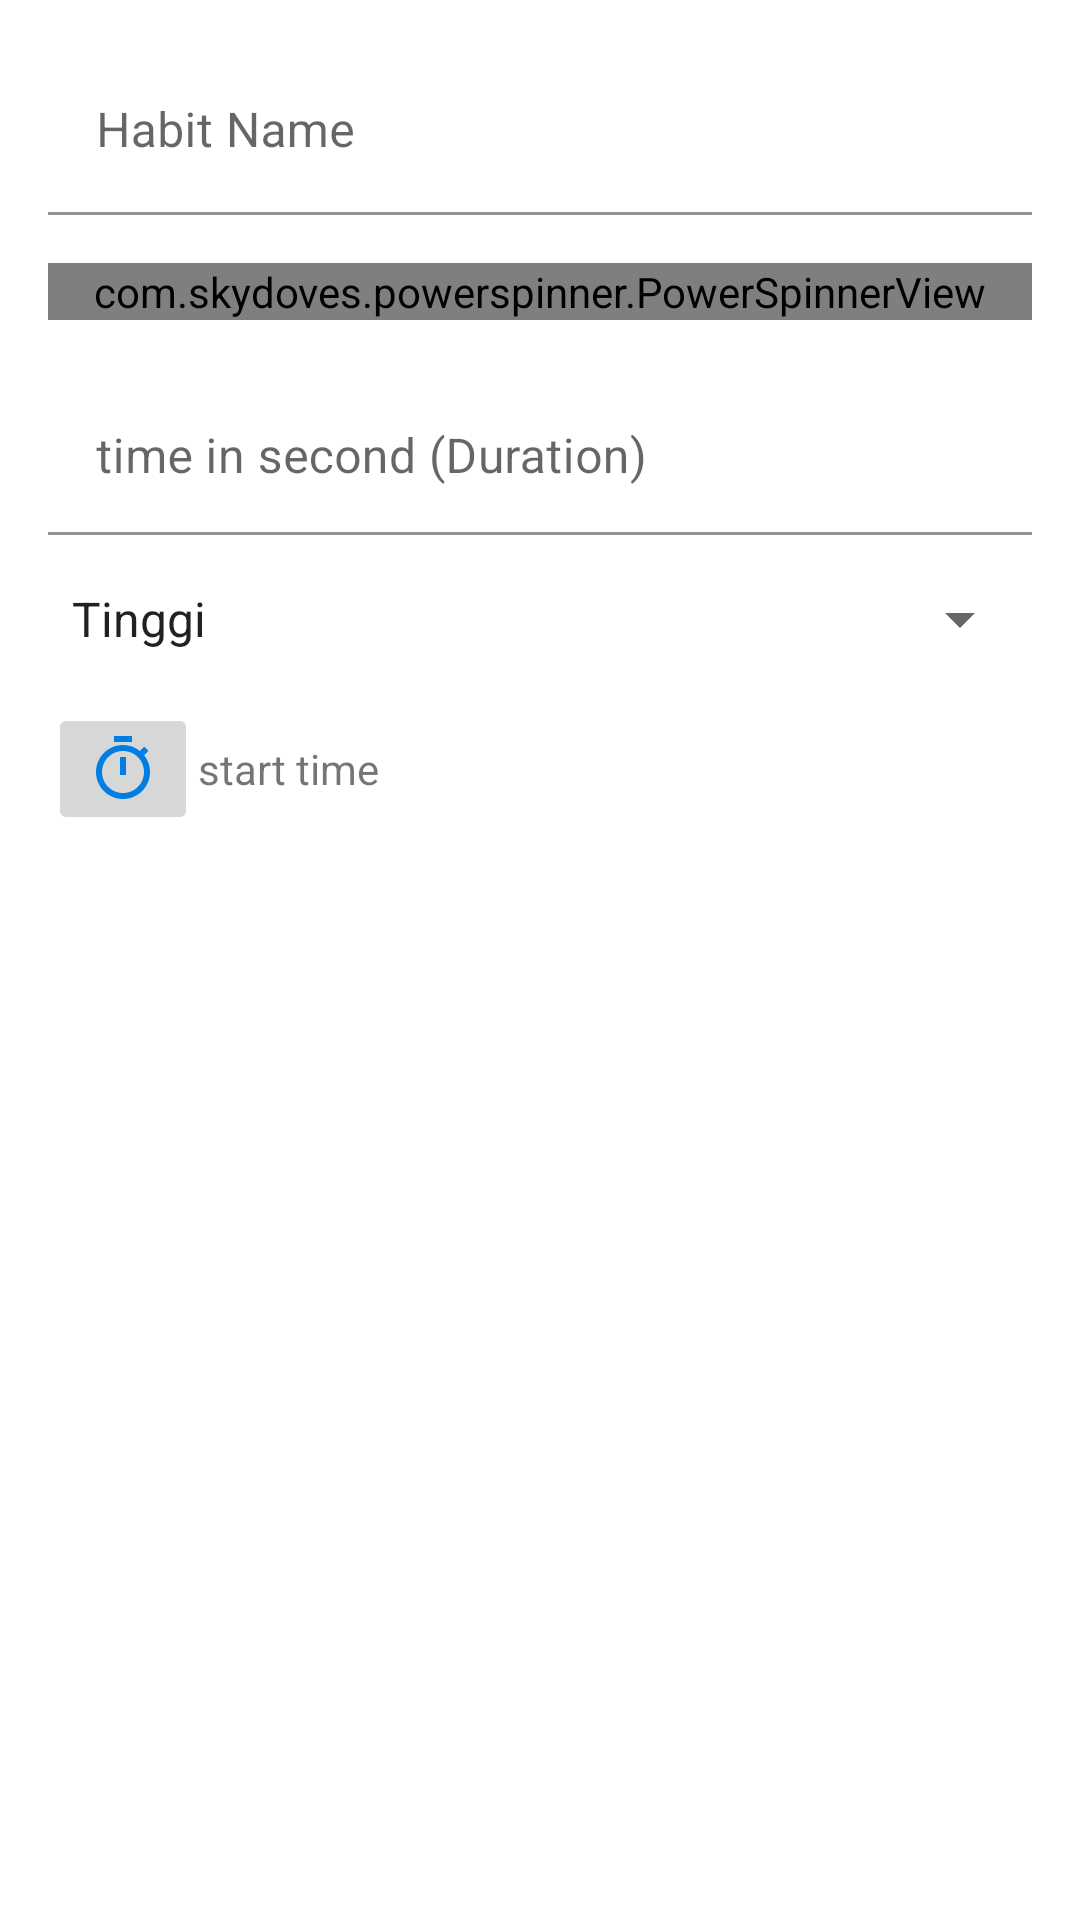

Point at icon controls on the screen. Image size 1080px×1920px, points as (x,y).
timer: (123,769)
